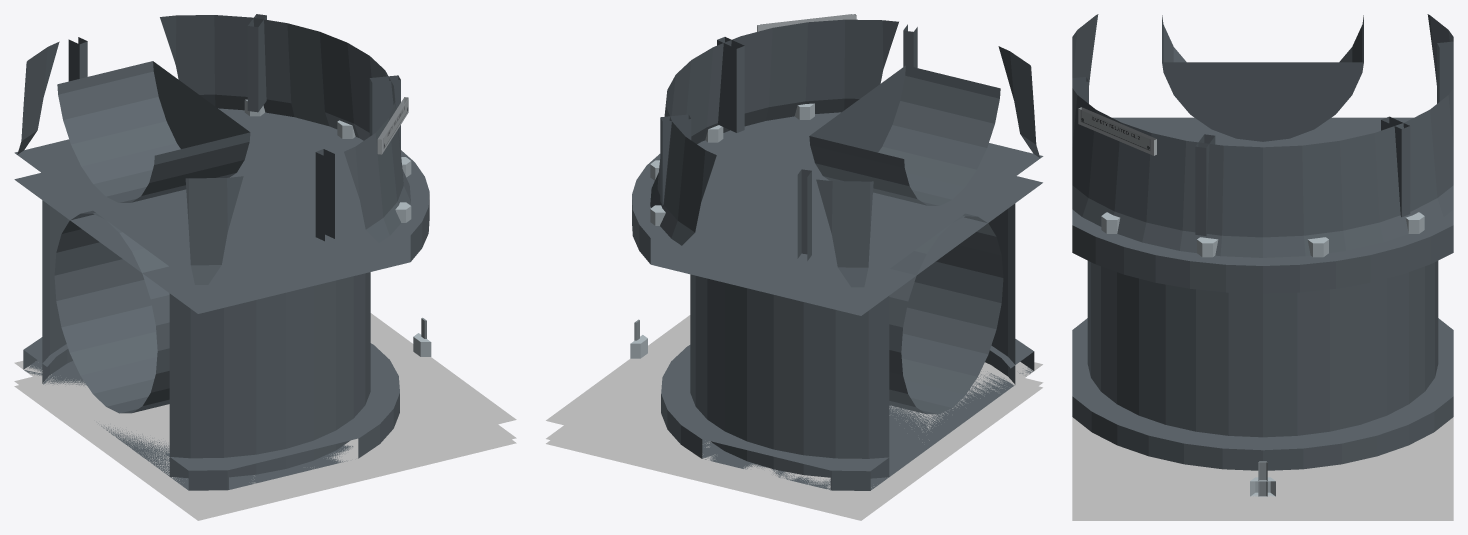
Rendered from cell_11.obj.
3 views of the same model, side by side, from view 1: azimuth 30°, elevation 25°; view 2: azimuth 150°, elevation 25°; view 3: azimuth 270°, elevation 25° (orthographic). The views are drawn at different scales.
Bounding box in the file's own units: 1 × 1 × 1.
